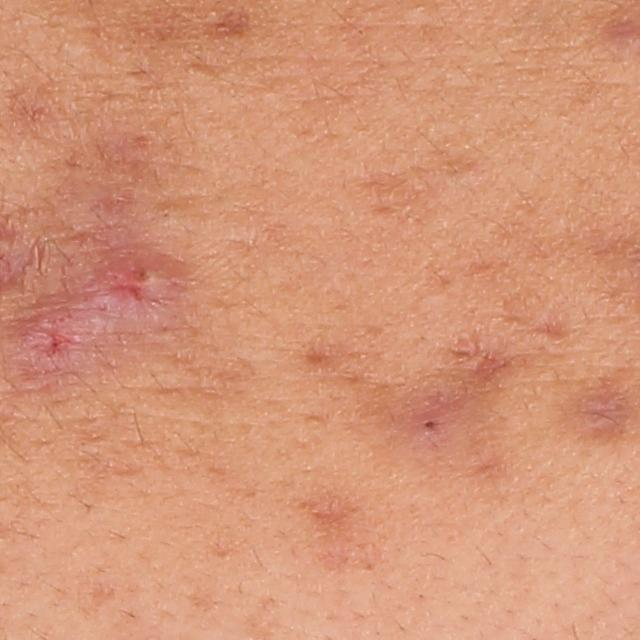atrophic_scar: (351, 154, 474, 232), (284, 491, 396, 575), (411, 249, 501, 303), (572, 384, 633, 440), (445, 335, 505, 383), (201, 7, 254, 42)
papule: (79, 254, 173, 340), (8, 304, 84, 384)
